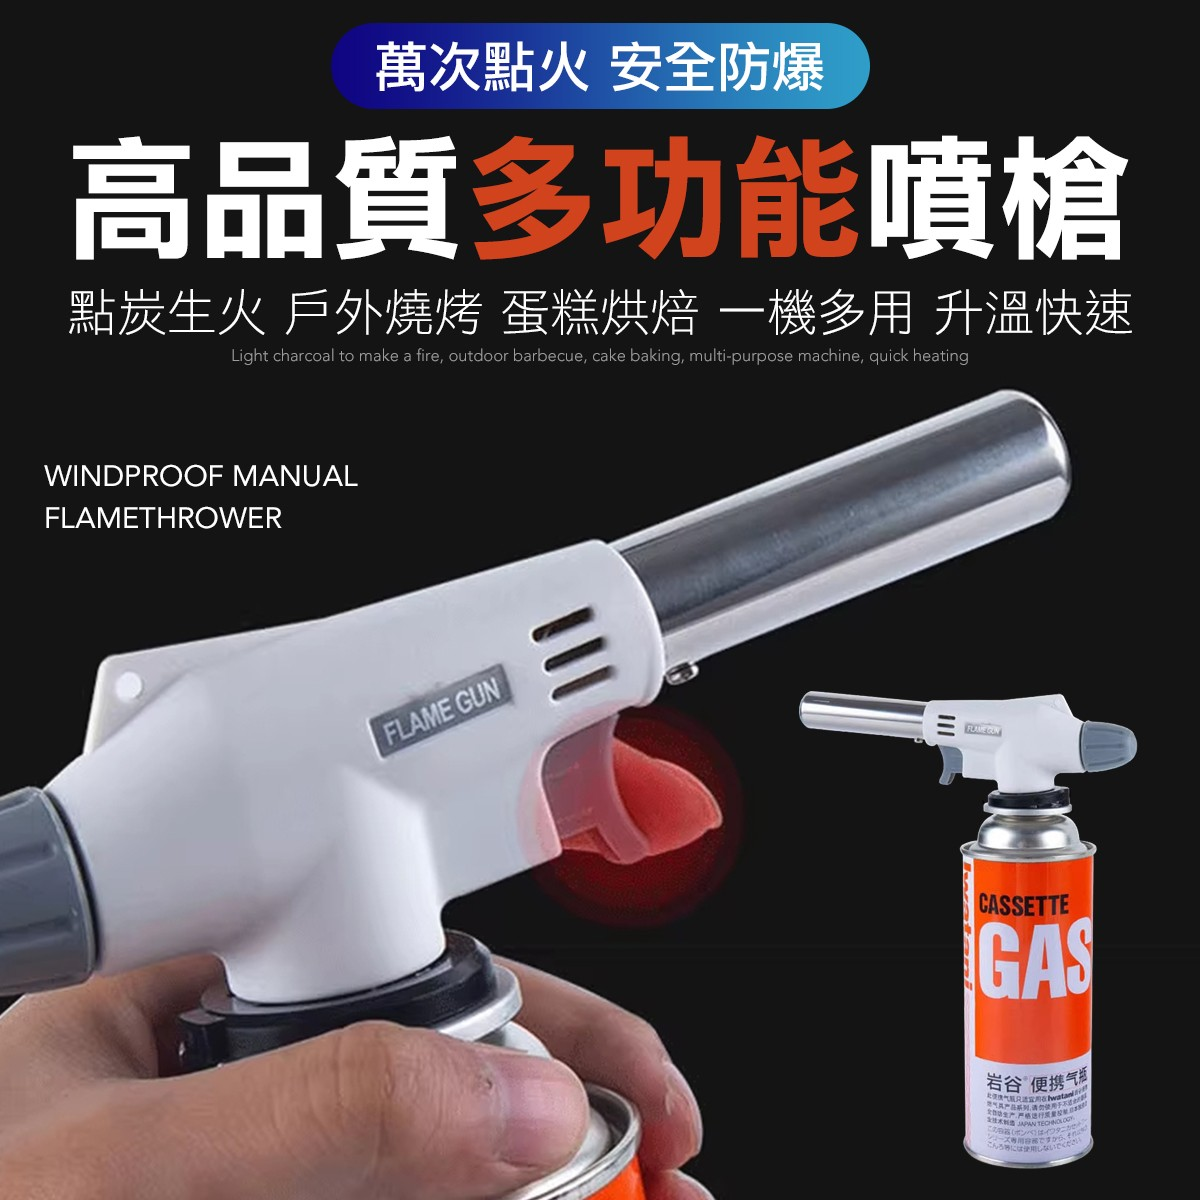gastorch: (781, 676, 1147, 1164)
